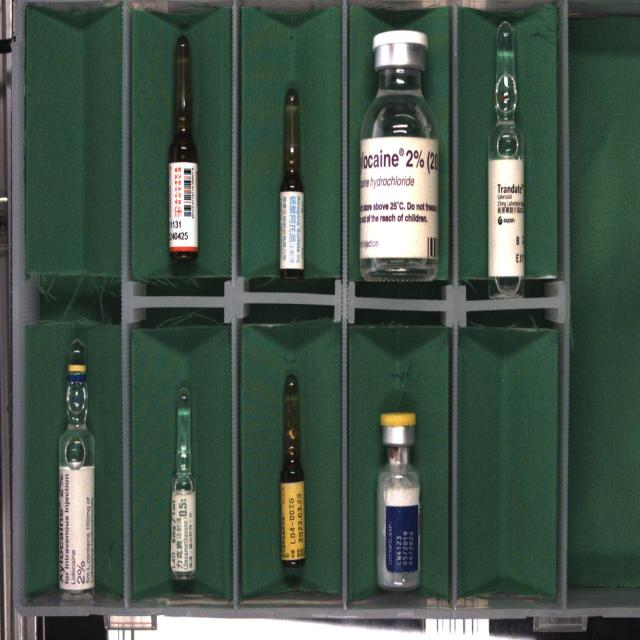Vials: (359, 30, 439, 281), (376, 413, 420, 590)
